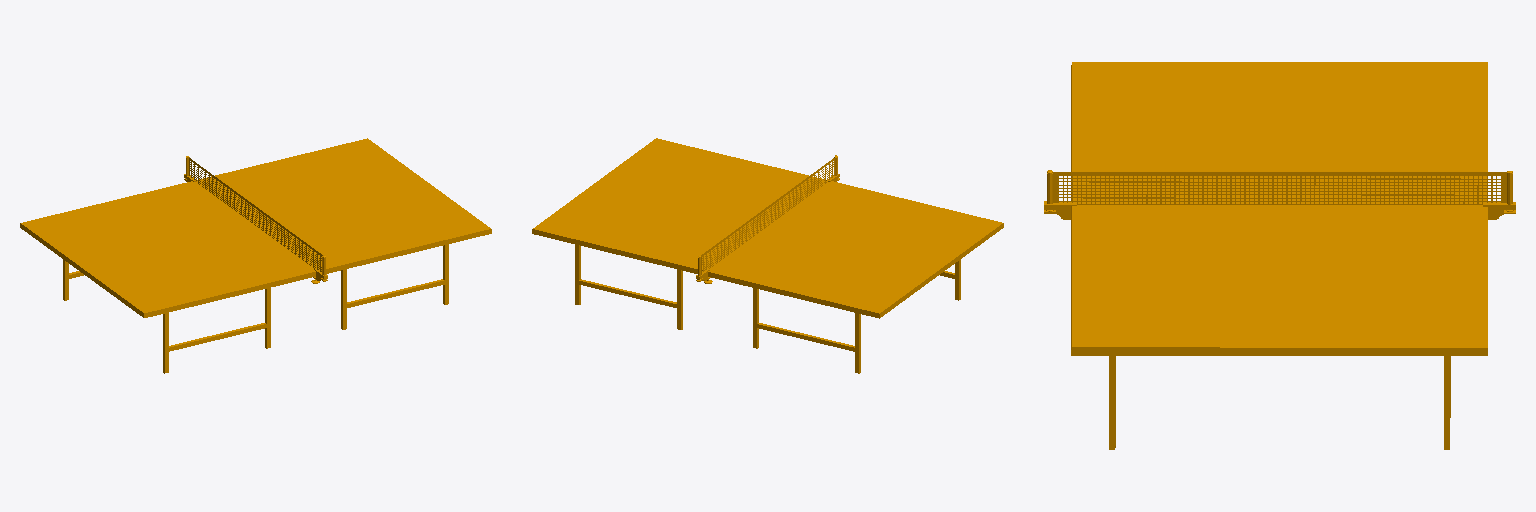
The robot description file, URDF, robot "none":
<robot name="none">
       <link name="none">
           <visual>
               <origin rpy="1.57 0 0" xyz="0 0 0" />
               <geometry>
                   <mesh filename="table_tennis.obj" />
               </geometry>
           </visual>
          <collision>
              <geometry>
                  <box size="1.000000 0.264466 0.697912" />
              </geometry>
          </collision>

          <inertial>
            <mass value="0.0" />
            <inertia ixx="0.0" ixy="0.0" ixz="0.0" iyy="0.0" iyz="0.0" izz="0.0" />
          </inertial>
      </link>
  </robot>

--- What the picture shows (computed from the rendered views, not written in the file) ---
The picture shows the robot from 3 angles, left to right: view 1: azimuth 30°, elevation 25°; view 2: azimuth 150°, elevation 25°; view 3: azimuth 270°, elevation 25°; orthographic projection.
Model none with 1 links and 0 joints (none), rooted at none, posed every joint at zero.
Visible links, largest first — view 1: none; view 2: none; view 3: none.
Link boxes in pixels (<box>): none: <box>20,138,491,373</box>; none: <box>532,138,1003,373</box>; none: <box>1044,62,1515,449</box>.
Bounding box of the posed robot: 1 × 0.6979 × 0.2649 m (x, y, z).
Meshes: 1 distinct files referenced, 1 mesh visuals loaded (1 OBJ).